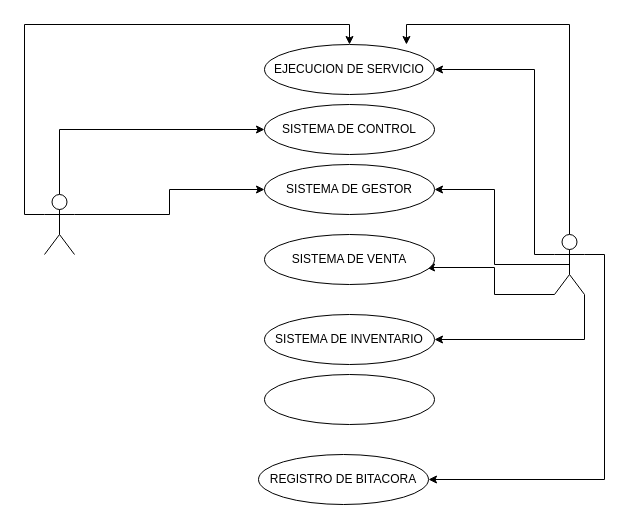
This 630x522 diagram has some shape labels left out. Each missing label, with the centre of its shape:
ADMIN: point (569, 264)
GENERAR FACTURA: point (349, 399)
VENDEDOR: point (59, 224)
